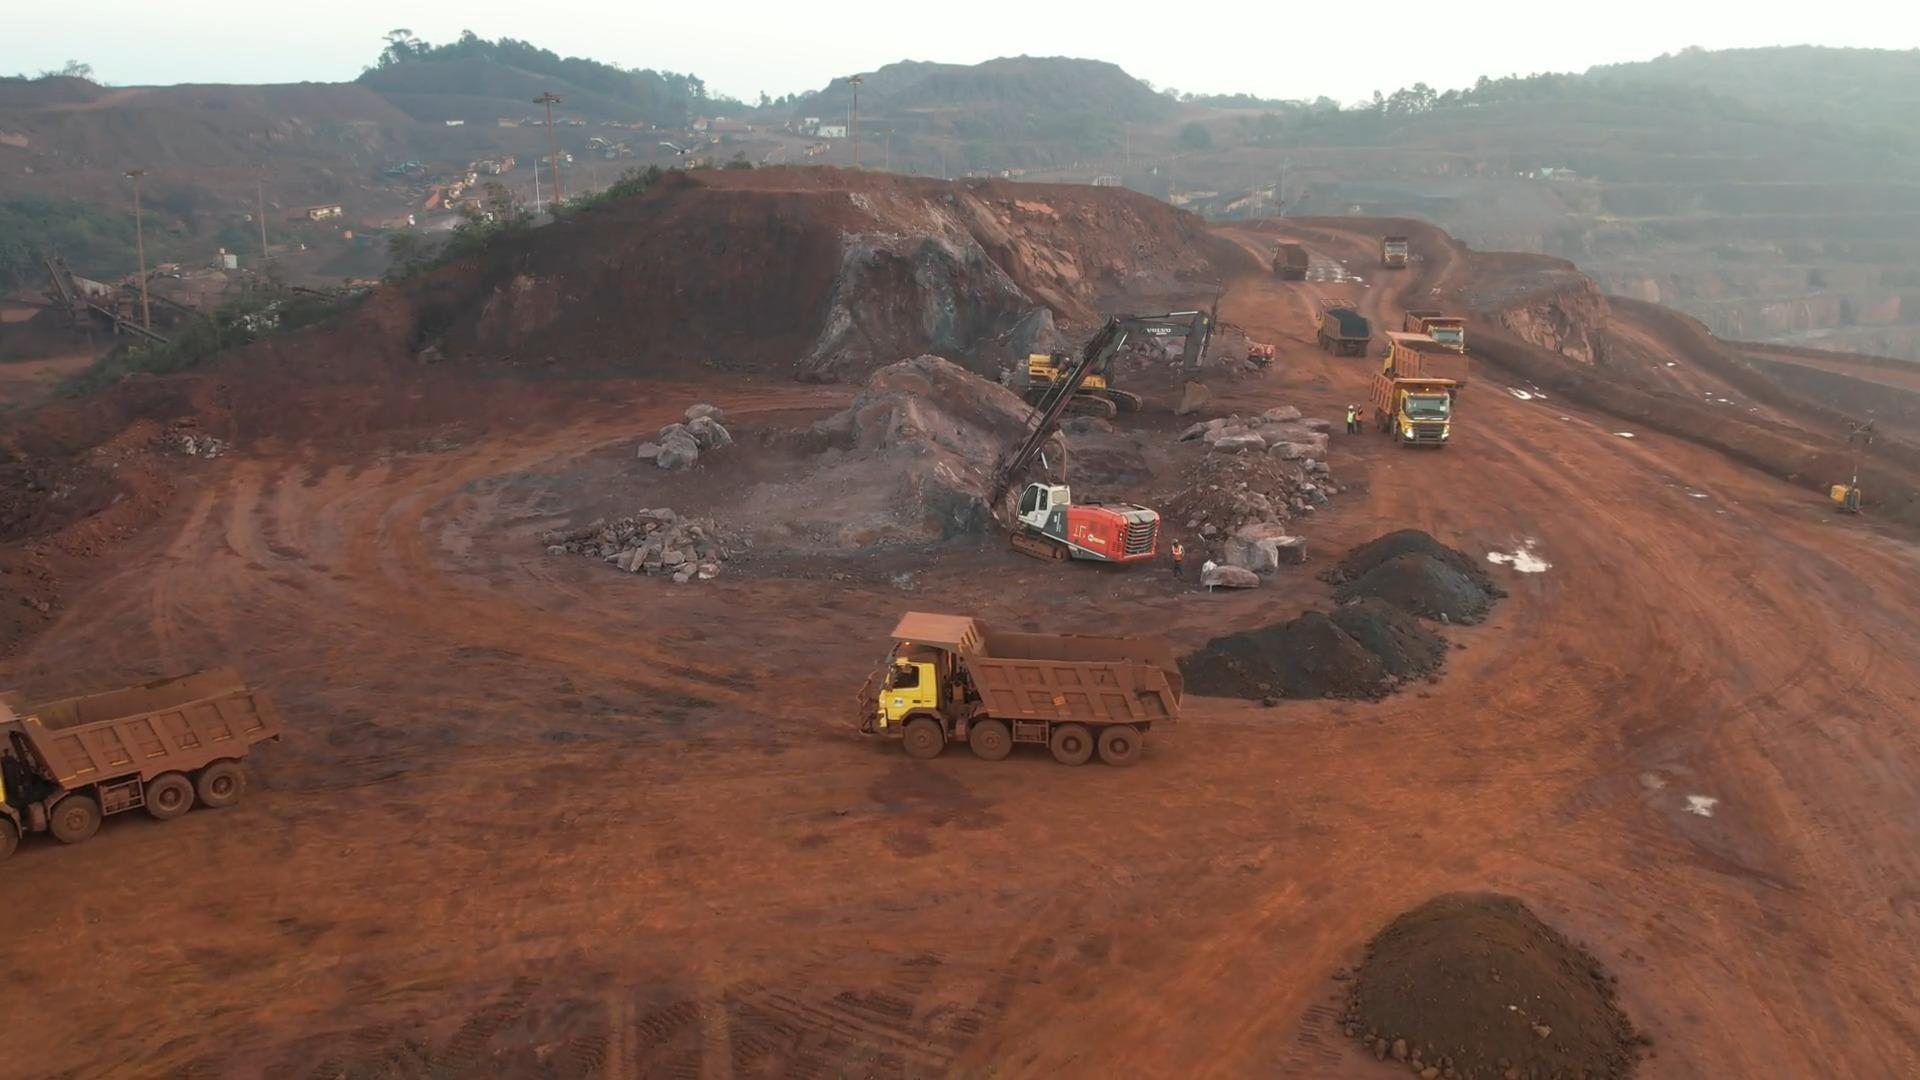excavator: (1026, 308, 1216, 404)
